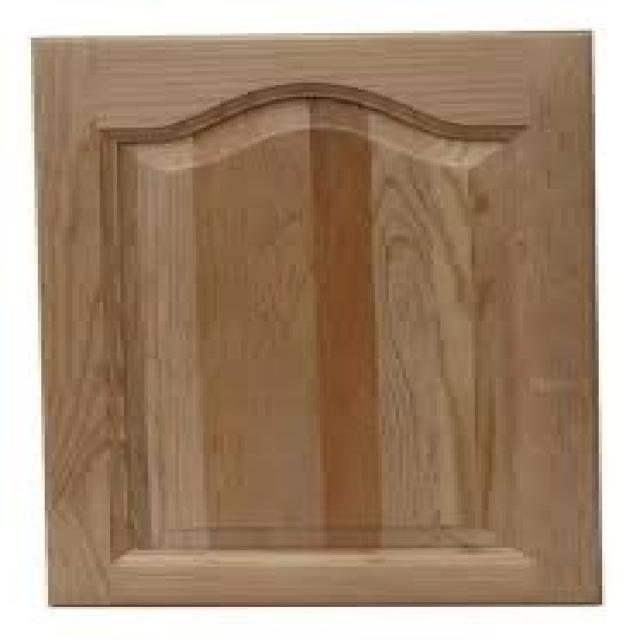door: (31, 29, 602, 608)
